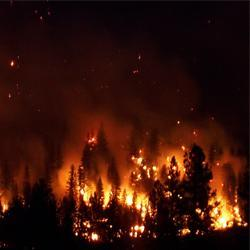fire: (210, 199, 236, 226), (124, 194, 148, 211), (81, 186, 90, 205), (127, 226, 143, 236), (103, 191, 109, 211)
